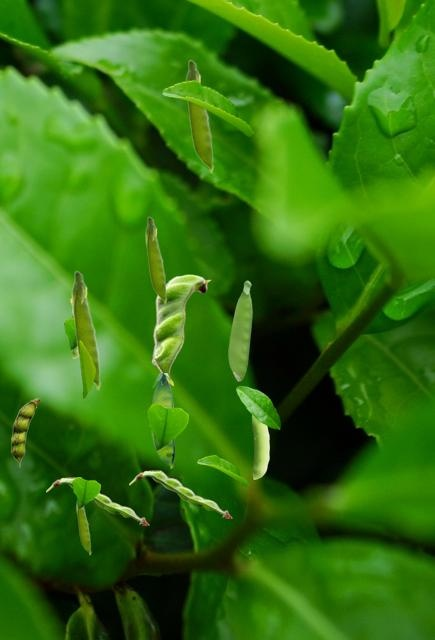pea: (151, 274, 210, 387), (129, 470, 231, 517), (46, 477, 148, 524), (71, 270, 100, 389), (185, 59, 213, 172), (228, 280, 251, 380), (151, 373, 173, 467), (11, 398, 39, 466), (145, 216, 166, 303), (251, 415, 268, 478), (76, 500, 90, 554), (69, 298, 78, 357)
